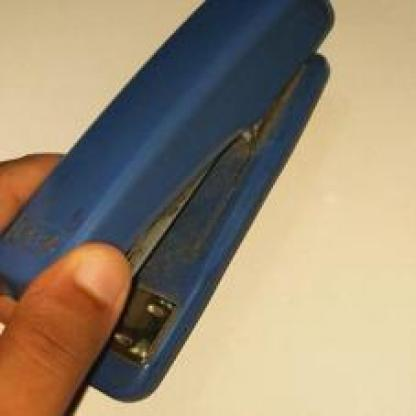stapler: (7, 6, 363, 376)
